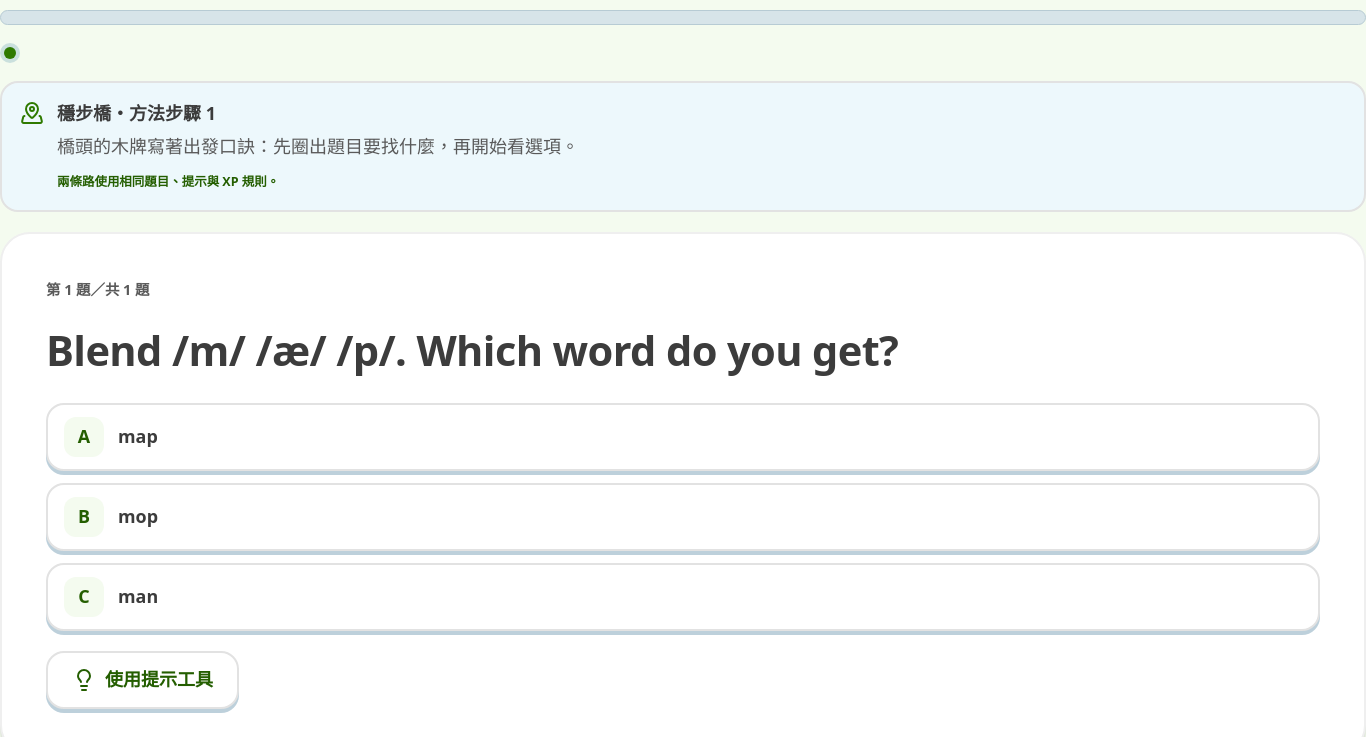
BattleSession › explains how the last selected strategy helped in the answer feedback
(page scrolled)
Check: the heading "Blend /m/ /æ/ /p/. Which word do you get?" is shown, box x1=46 y1=322 x2=898 y2=378
Click the button "使用提示工具".
click(142, 680)  # box x1=46 y1=651 x2=239 y2=709
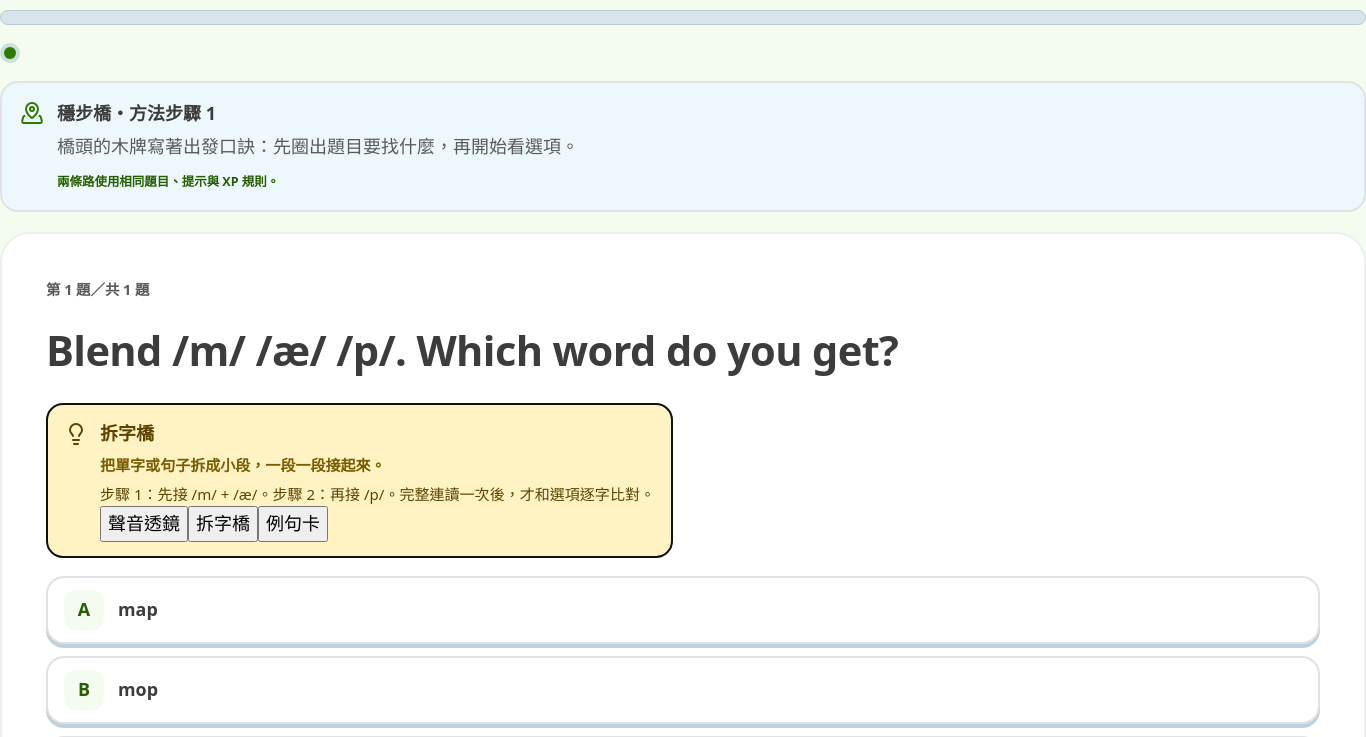
Click the button with aria-label "切換為例句卡".
click(293, 524)  # box x1=258 y1=506 x2=328 y2=542
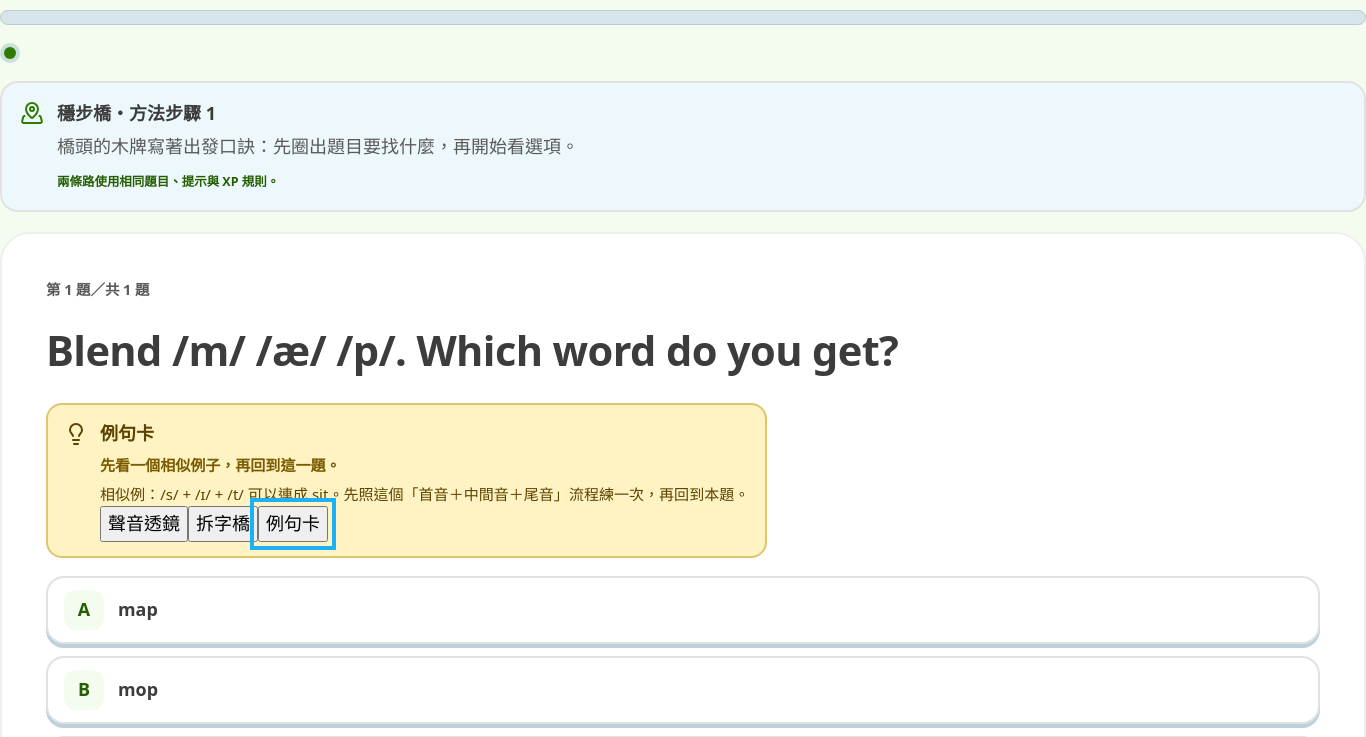
Click the button "A map".
click(84, 610)  # box x1=46 y1=576 x2=1320 y2=644
(page scrolled)
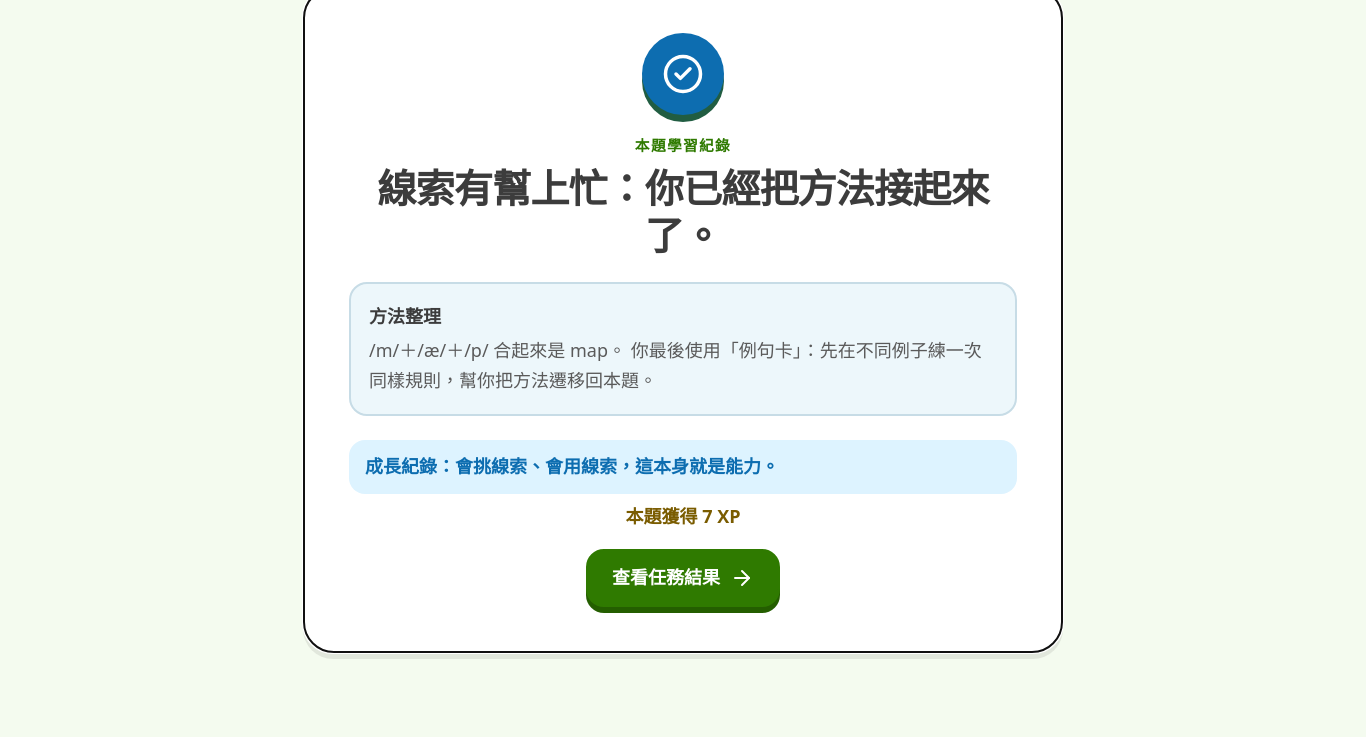
Check: the heading "線索有幫上忙：你已經把方法接起來了。" is shown, box x1=349 y1=165 x2=1017 y2=258
Check: the text "/m/＋/æ/＋/p/ 合起來是 map。 你最後使用「例句卡」：先在不同例子練一次同樣規則，幫你把方法遷移回本題。" is shown, box x1=369 y1=336 x2=997 y2=396
